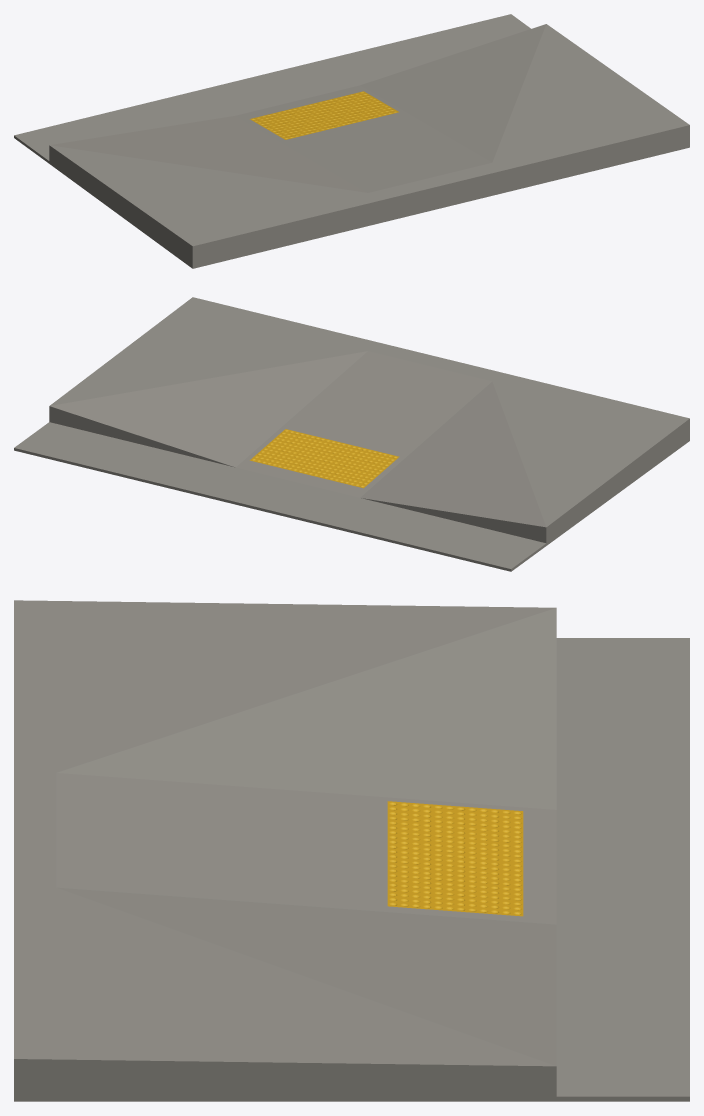
File: curb_ramp_perpendicular.glb
3 views of the same model, one above another, from view 1: azimuth 30°, elevation 25°; view 2: azimuth 150°, elevation 25°; view 3: azimuth 270°, elevation 25° (orthographic). The views are drawn at different scales.
Parts seen in each view (by area): view 1: curb_ramp_perpendicular-col; view 2: curb_ramp_perpendicular-col; view 3: curb_ramp_perpendicular-col.
Part boxes in pixels (box(x1,y1,x2,y2)): curb_ramp_perpendicular-col: box(14, 14, 689, 268); curb_ramp_perpendicular-col: box(14, 297, 689, 571); curb_ramp_perpendicular-col: box(14, 600, 689, 1101).
Bounding box in the file's own units: 4.88 × 0.2116 × 3.04.
2 materials, 1 textured.
